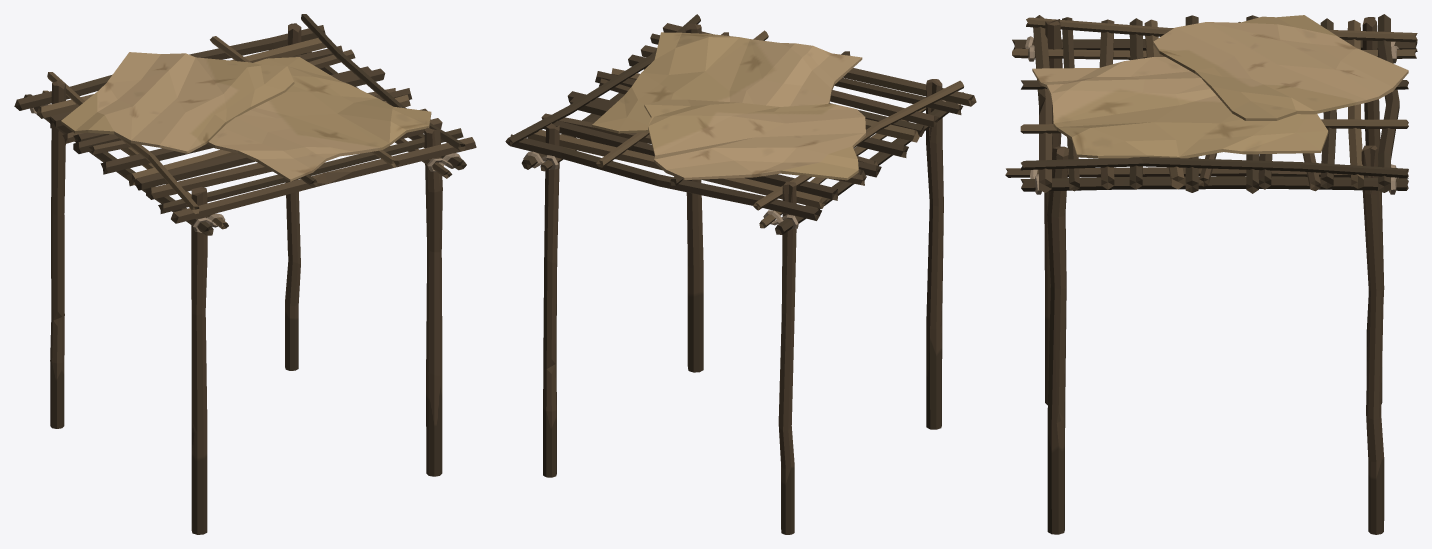
The model's file is SM_Bld_Pergola_02.fbx.
3 views of the same model, side by side, from view 1: azimuth 30°, elevation 25°; view 2: azimuth 150°, elevation 25°; view 3: azimuth 270°, elevation 25° (orthographic). The views are drawn at different scales.
Parts seen in each view (by area): view 1: SM_Bld_Pergola_02; view 2: SM_Bld_Pergola_02; view 3: SM_Bld_Pergola_02.
Boxes of the visible parts, <box> form: SM_Bld_Pergola_02: <box>14,14,476,534</box>; SM_Bld_Pergola_02: <box>505,14,976,534</box>; SM_Bld_Pergola_02: <box>1005,14,1417,534</box>.
Size of the model in its own units: 292 by 318 by 306.
